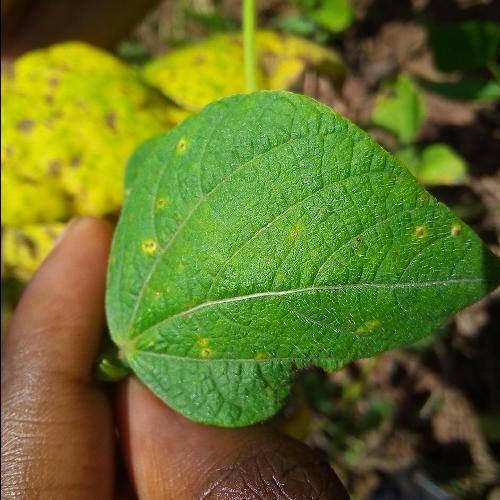hawar: (346, 198, 464, 346), (132, 115, 224, 271), (172, 324, 228, 377)
sehat: (237, 82, 327, 316)
